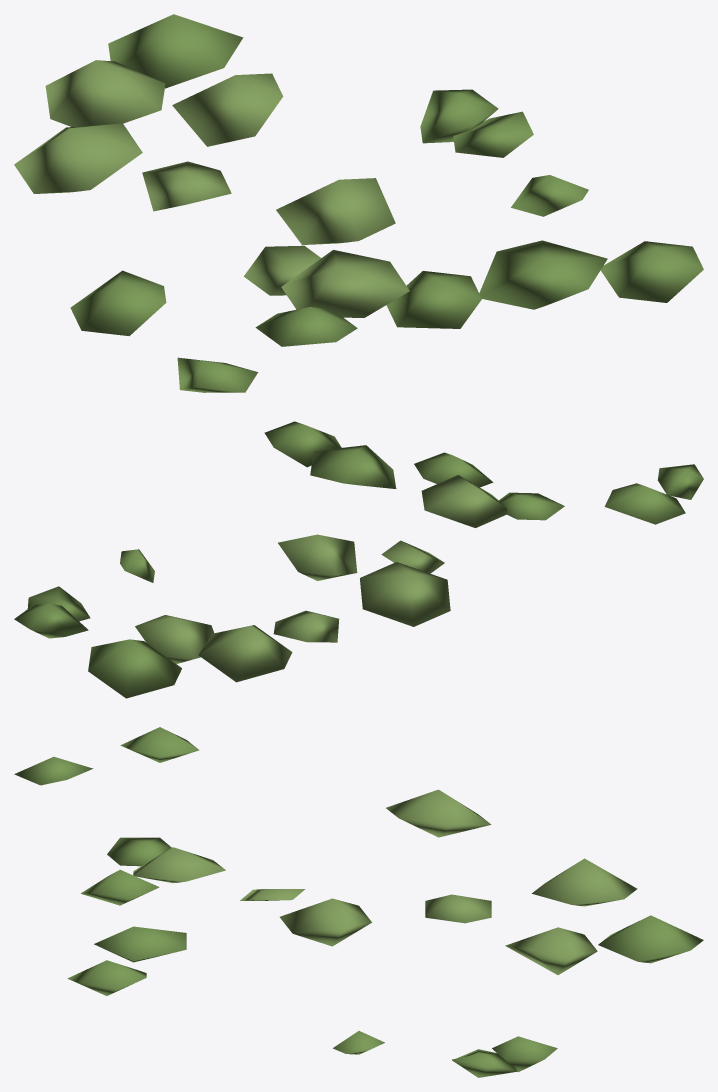
File: canopy-2--1-12.glb
3 renders of one model, top to bottom at view 1: azimuth 30°, elevation 25°; view 2: azimuth 150°, elevation 25°; view 3: azimuth 270°, elevation 25°, orthographic. The views are drawn at different scales.
Bounding box in the file's own units: 110 × 27.5 × 130.
1 material, 1 textured.
